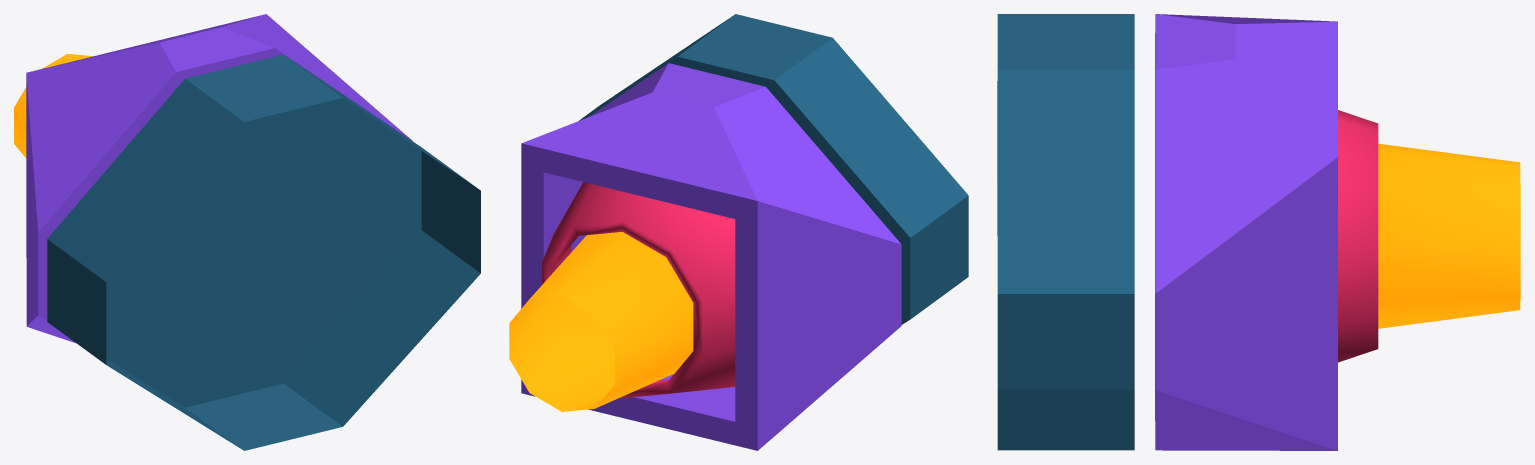
The model's file is teleport.glb.
The picture shows the model from 3 angles, left to right: view 1: azimuth 30°, elevation 25°; view 2: azimuth 150°, elevation 25°; view 3: azimuth 270°, elevation 25°; orthographic projection. The views are drawn at different scales.
Parts seen in each view (by area): view 1: Plane.005, boost-part.007; view 2: Plane.005, boost-part.007; view 3: Plane.005, boost-part.007.
Boxes of the visible parts, x1,y1,x2,y2 form: Plane.005: [26, 14, 480, 450]; boost-part.007: [14, 53, 92, 157]; Plane.005: [521, 14, 968, 450]; boost-part.007: [509, 231, 693, 411]; Plane.005: [997, 14, 1378, 450]; boost-part.007: [1378, 143, 1520, 328].
Size of the model in its own units: 0.1527 by 0.1281 by 0.1595.
